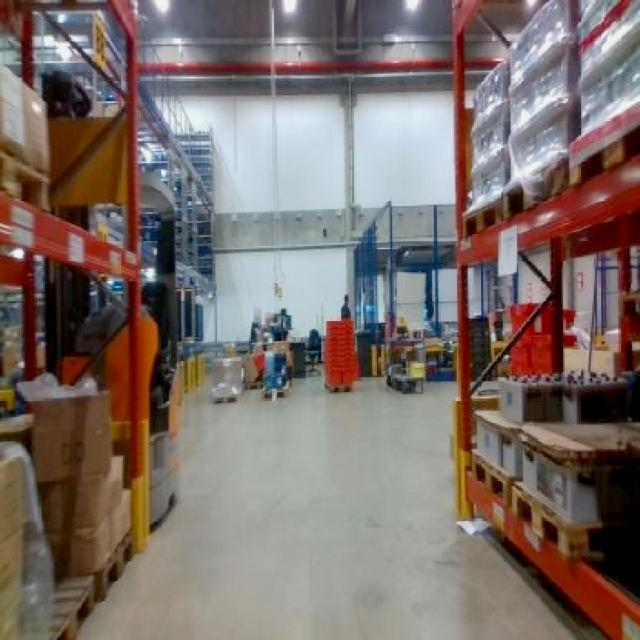pallets: (451, 0, 637, 637), (511, 422, 637, 568), (468, 314, 508, 409)
